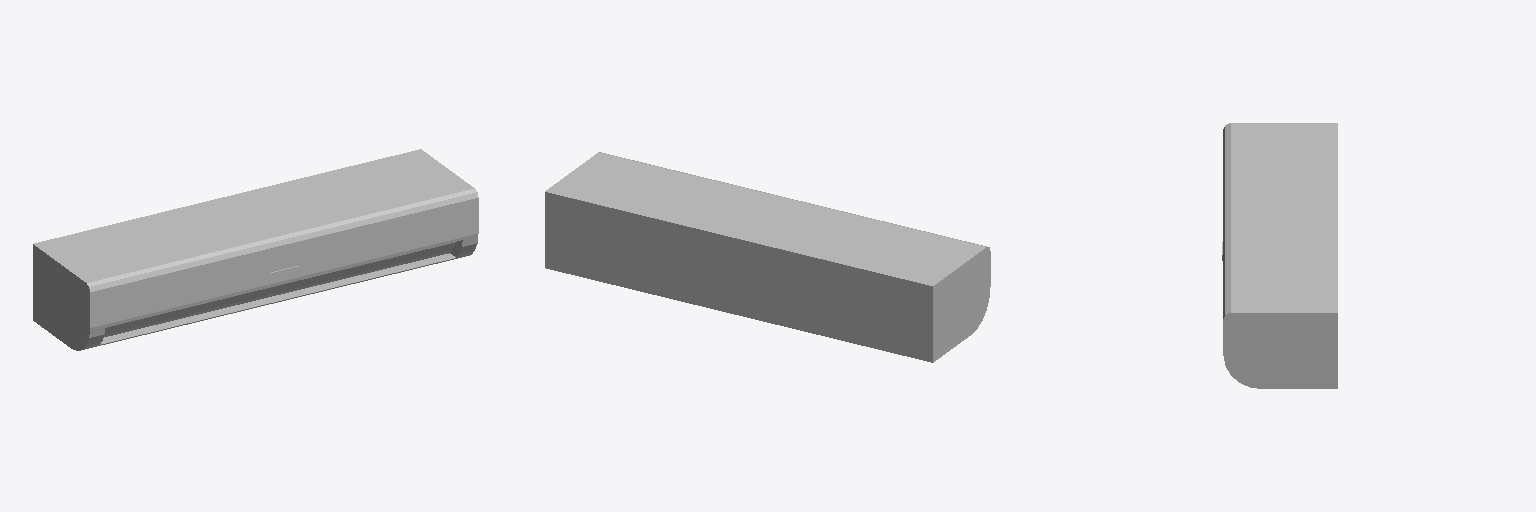
The model's file is AirConditioner_A.obj.
3 views of the same model, side by side, from view 1: azimuth 30°, elevation 25°; view 2: azimuth 150°, elevation 25°; view 3: azimuth 270°, elevation 25° (orthographic).
Visible parts, largest first — view 1: AirConditioner_A; view 2: AirConditioner_A; view 3: AirConditioner_A.
Part boxes in pixels (left/top/right/bottom): AirConditioner_A: left=33, top=149, right=478, bottom=350; AirConditioner_A: left=545, top=152, right=990, bottom=362; AirConditioner_A: left=1222, top=123, right=1337, bottom=388.
Size of the model in its own units: 1.4 by 0.2628 by 0.3628.